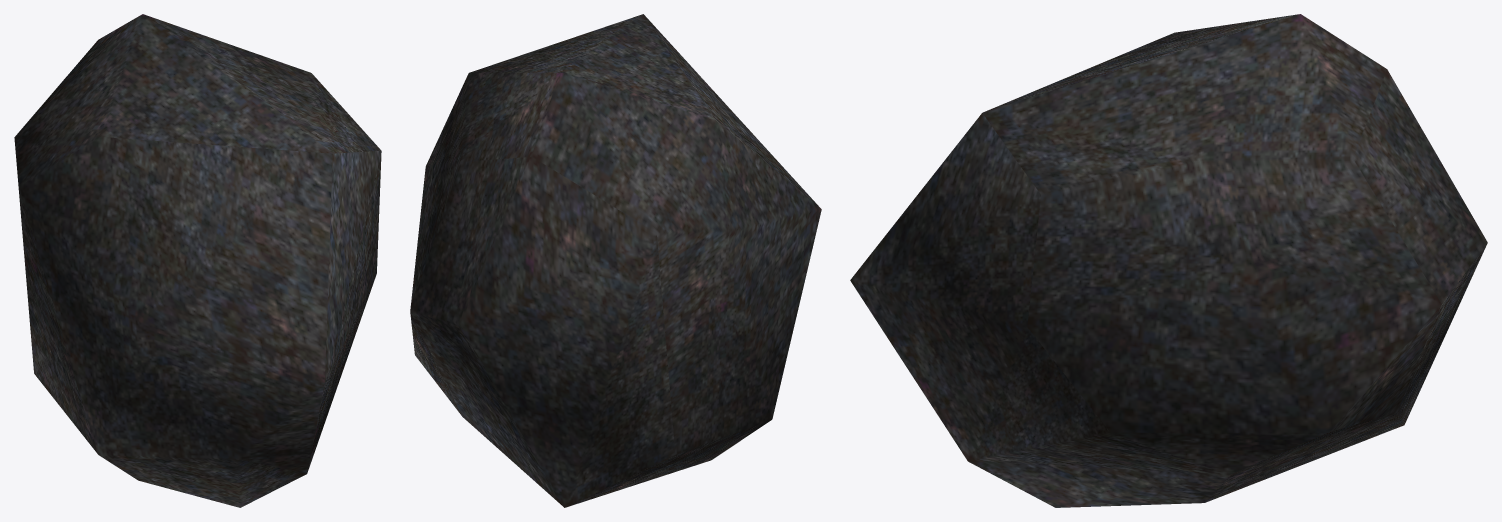
The model's file is asteroid_metal_radial_s02_l2.fbx.
3 views of the same model, side by side, from view 1: azimuth 30°, elevation 25°; view 2: azimuth 150°, elevation 25°; view 3: azimuth 270°, elevation 25° (orthographic). The views are drawn at different scales.
Visible parts, largest first — view 1: mesh_node; view 2: mesh_node; view 3: mesh_node.
Boxes of the visible parts, <box> form: mesh_node: <box>14,14,381,507</box>; mesh_node: <box>410,14,821,507</box>; mesh_node: <box>850,14,1487,507</box>.
Bounding box in the file's own units: 2.87 × 3.96 × 4.61.
